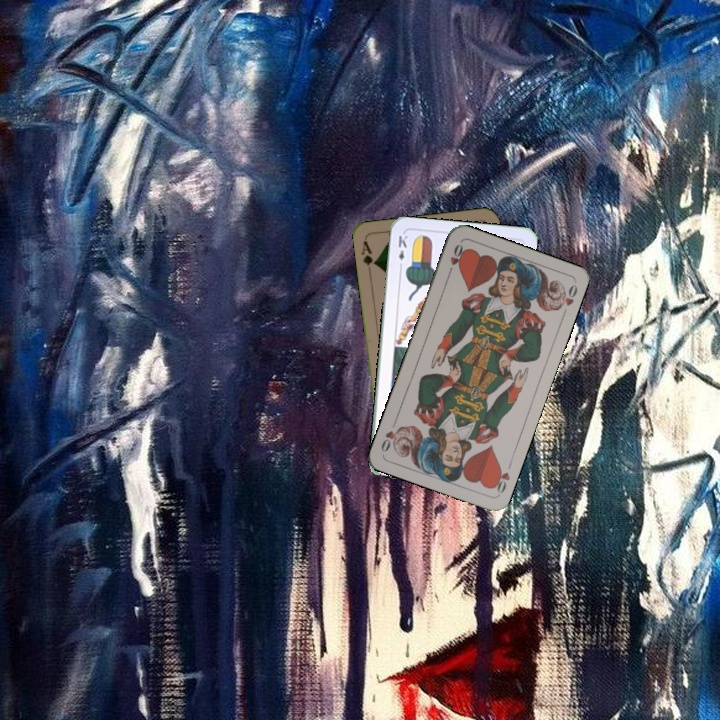EK: (394, 231, 410, 272)
GA: (357, 237, 379, 277)
HO: (444, 240, 467, 278), (488, 462, 513, 496)
